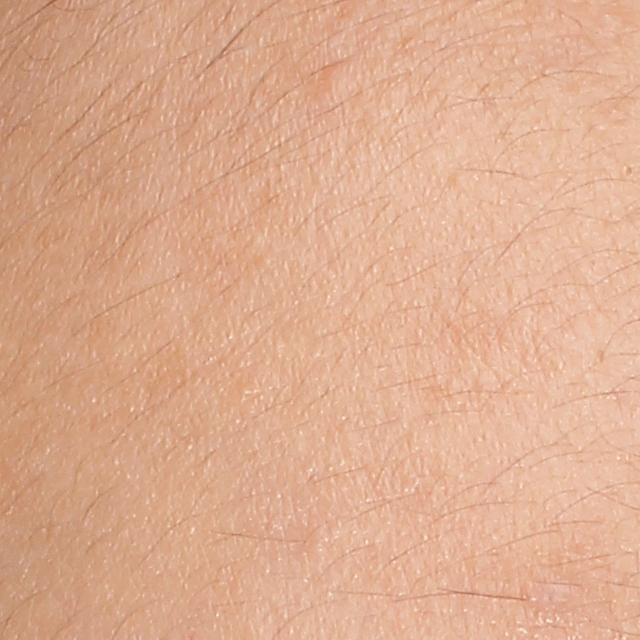comedo: (318, 62, 354, 99), (617, 160, 640, 183)
